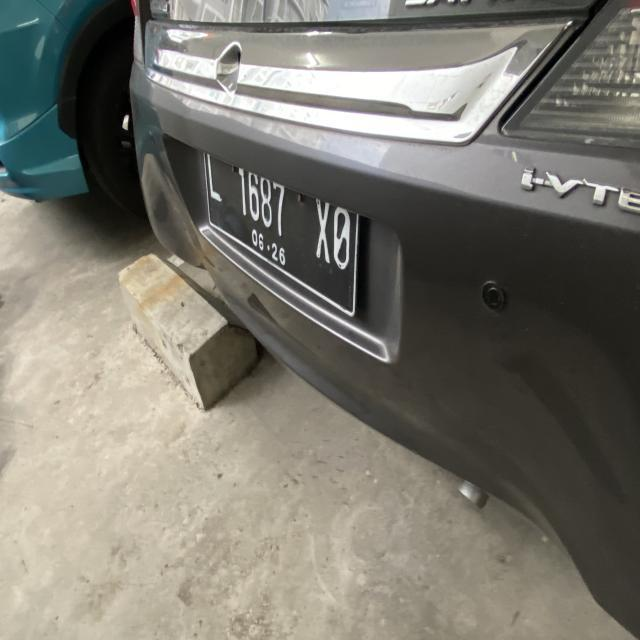1: (238, 162, 246, 222)
6: (248, 168, 259, 228)
7: (274, 174, 289, 241)
8: (260, 170, 272, 234)
L: (205, 148, 222, 208)
O: (334, 199, 350, 273)
X: (314, 188, 328, 268)
